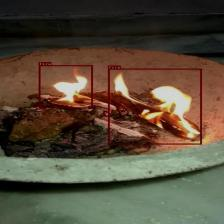fire: (108, 69, 201, 144), (38, 65, 92, 108)
